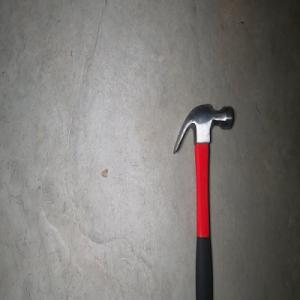Hammer: (172, 103, 234, 300)
